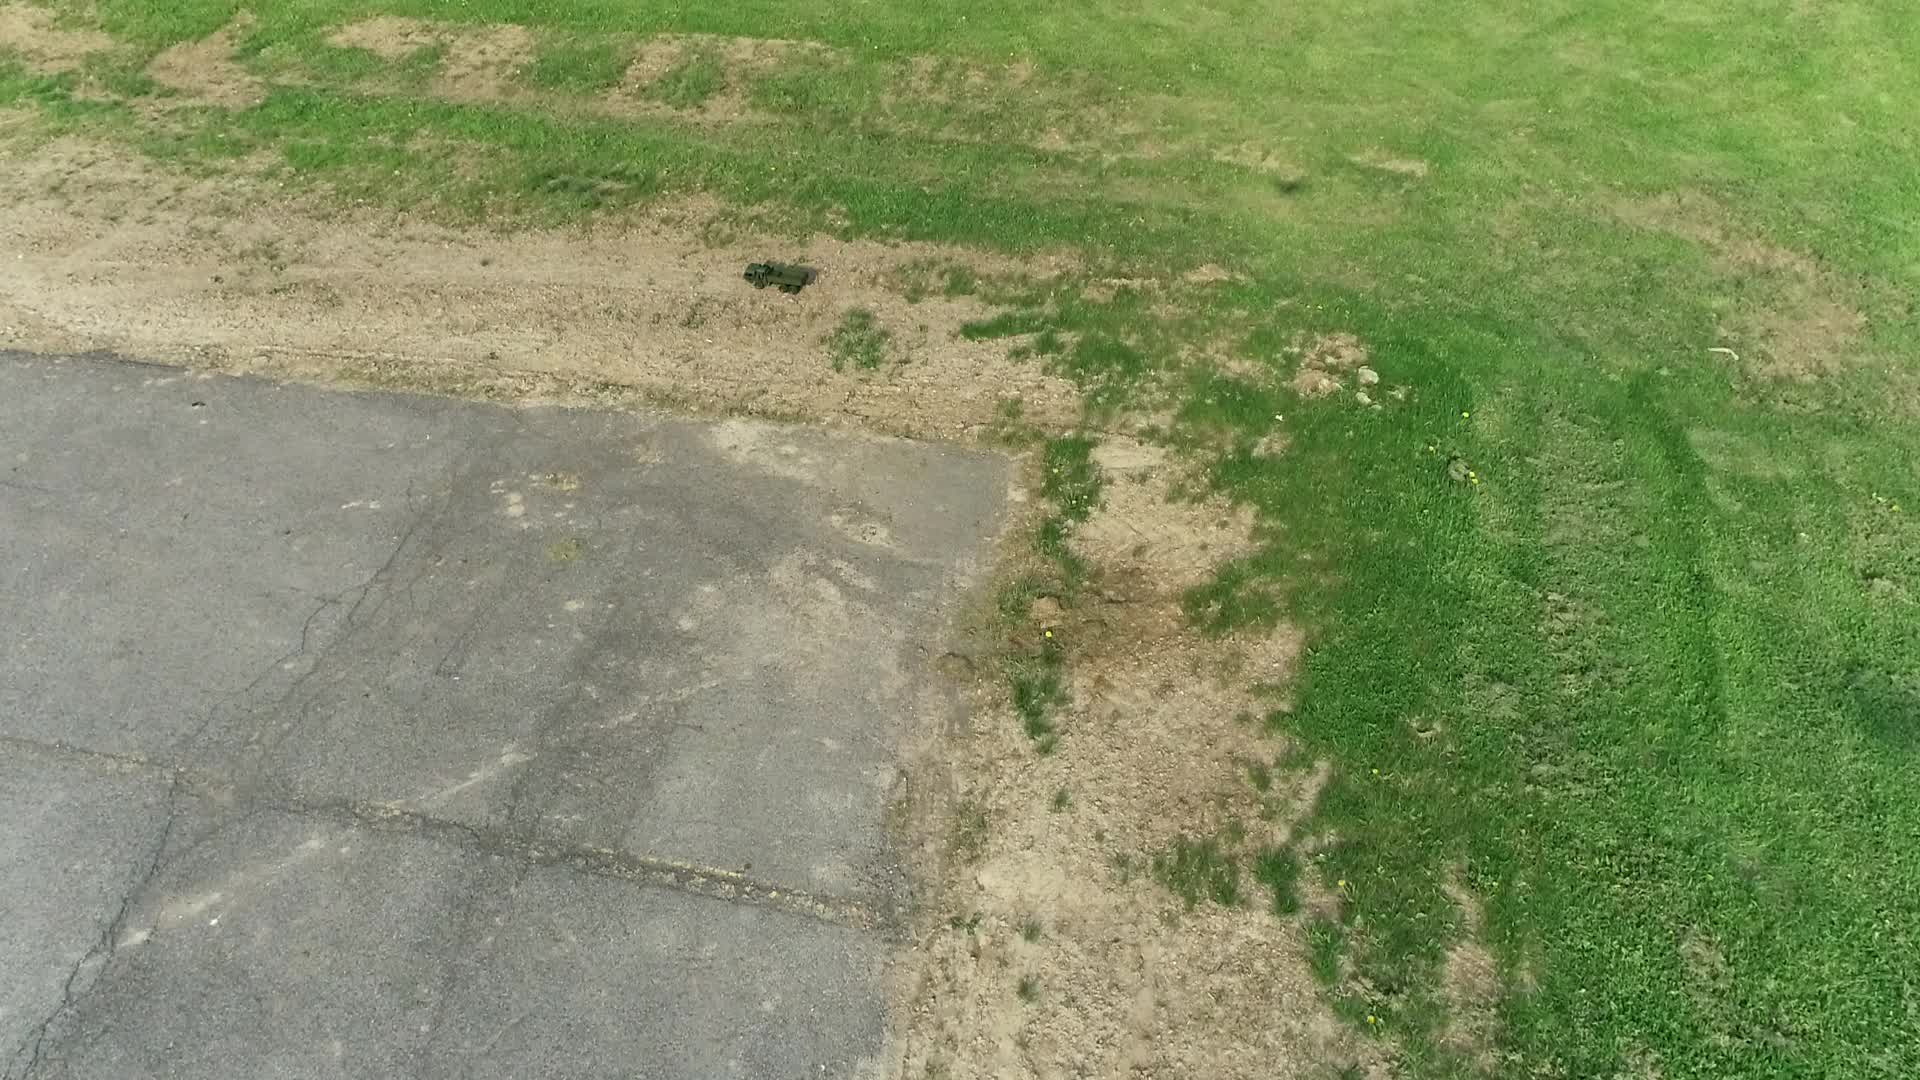transporter9: (742, 261, 808, 295)
